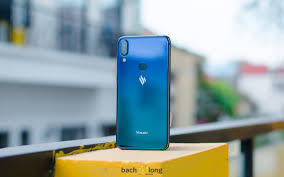vsmart: (116, 34, 172, 154)
